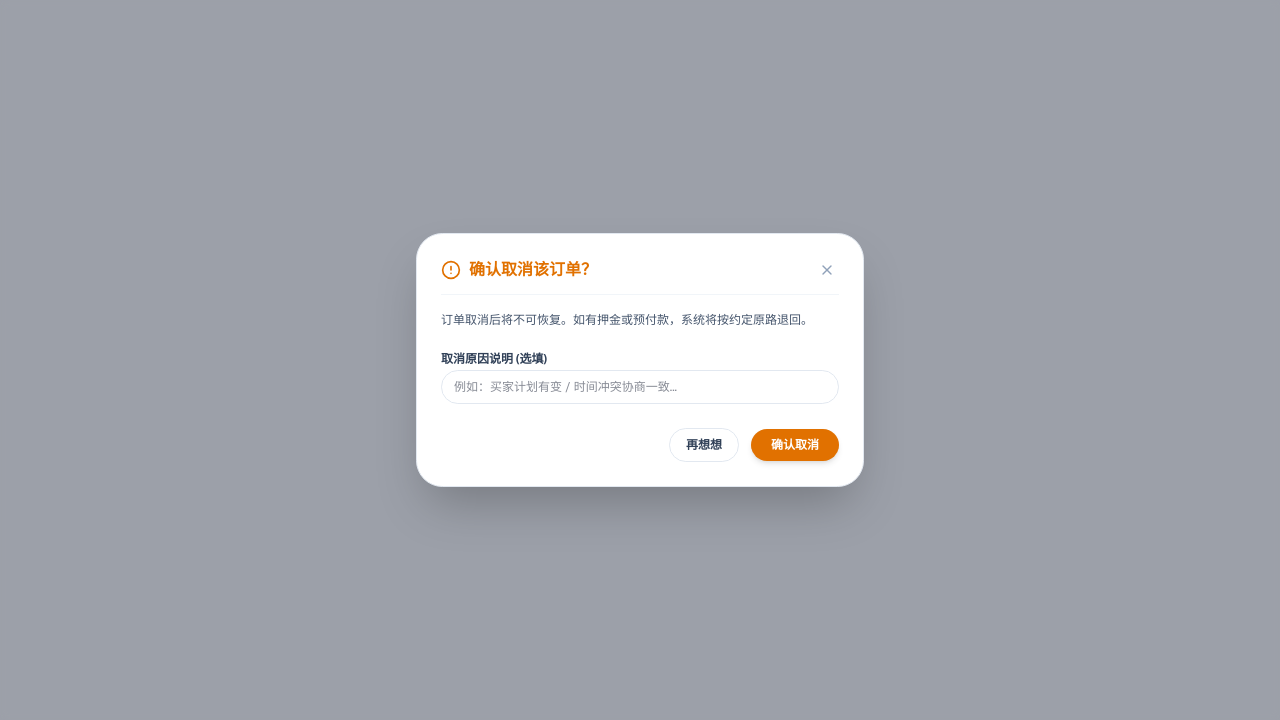
Test: OrderCancelDialog › shows the error message when cancelling fails
Click the button "确认取消".
click(795, 445)  # box [751,429,839,461]
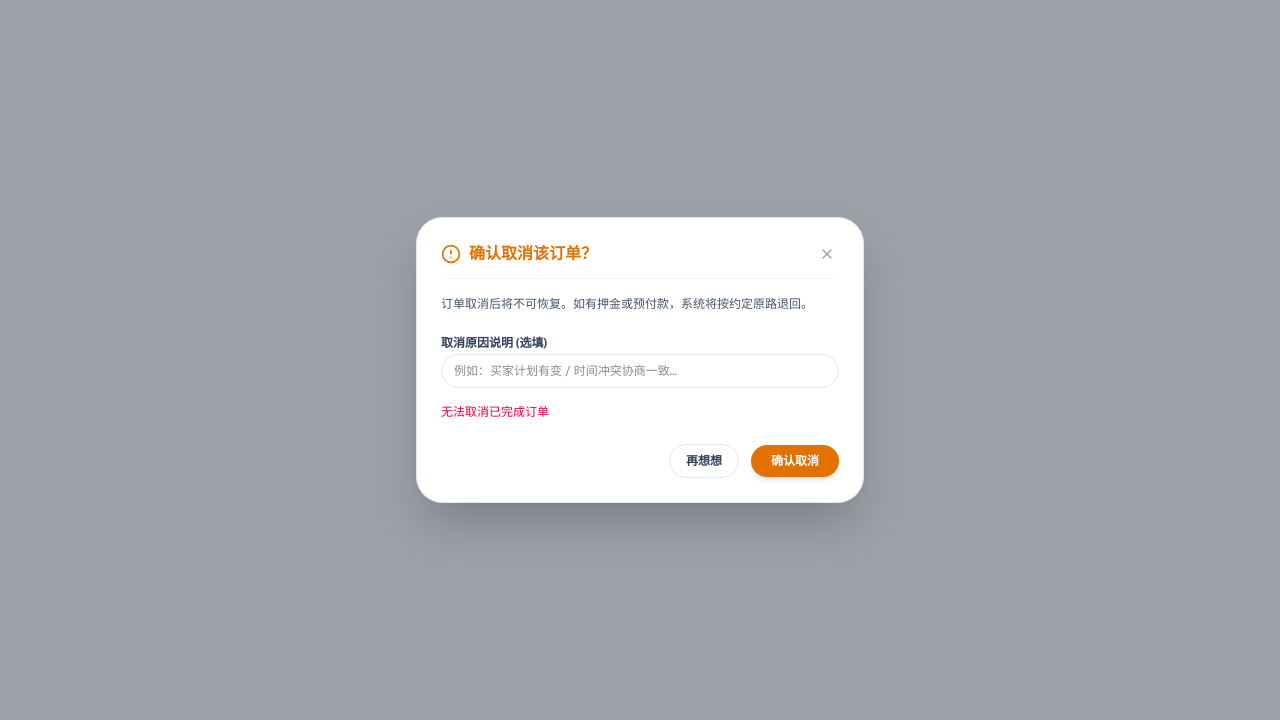
Expected: the text "无法取消已完成订单" is shown, [441,404,549,420]
